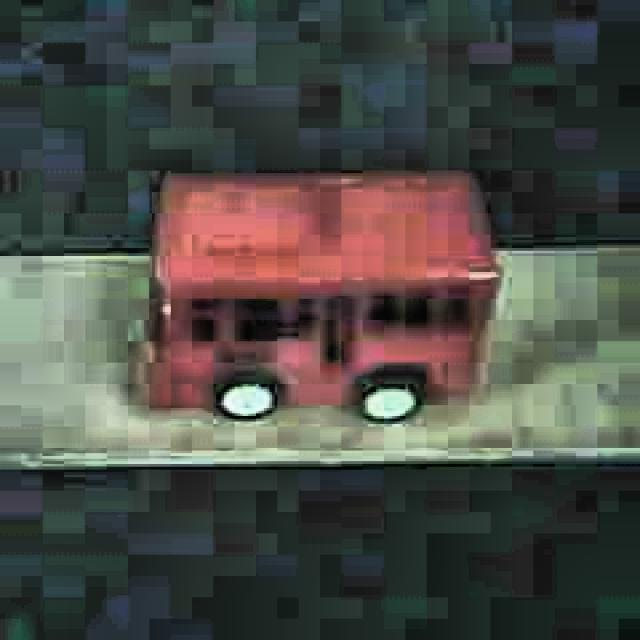bus: (140, 166, 500, 423)
